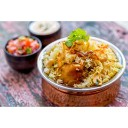briyani: (48, 37, 117, 82)
